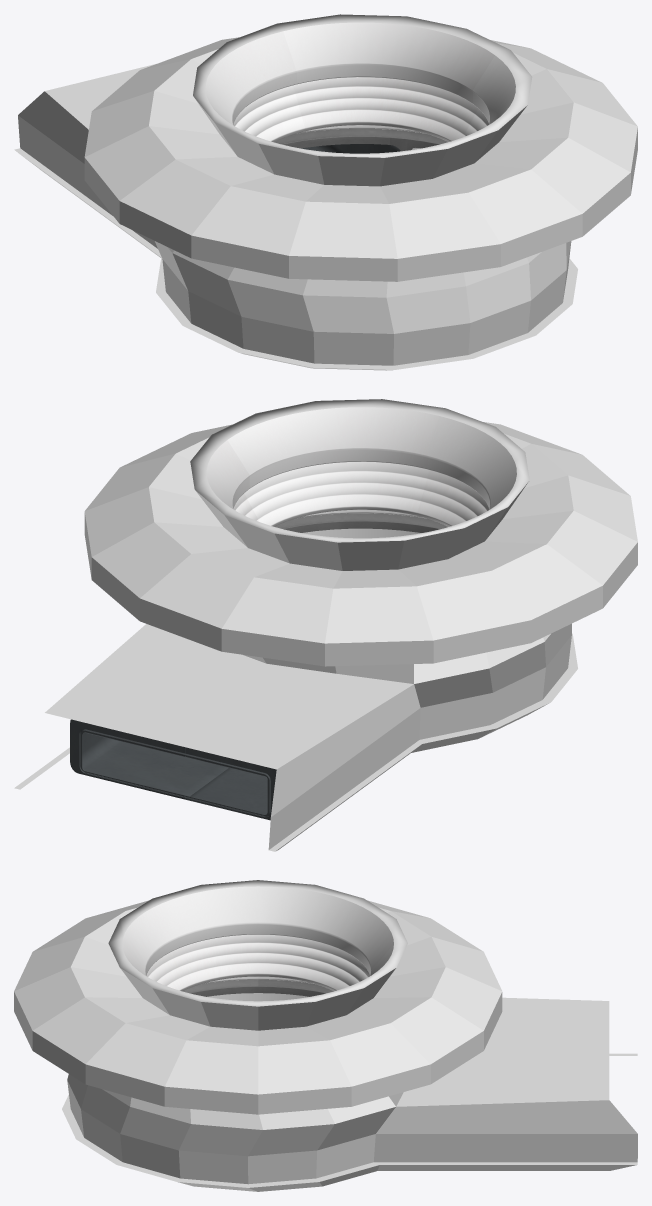
The picture shows the model from 3 angles, top to bottom: view 1: azimuth 30°, elevation 25°; view 2: azimuth 150°, elevation 25°; view 3: azimuth 270°, elevation 25°; orthographic projection. The views are drawn at different scales.
Visible parts, largest first — view 1: Shadowbox, Part_K, Part_J, Part_G, Part_L, Part_F_03; view 2: Shadowbox, Part_K, Part_J, Part_F_03, Door_D, Part_F_02, Part_G, Door_B, Part_L, Part_Window_glass, Door_A; view 3: Shadowbox, Part_K, Part_J, Part_G, Part_L, Part_Window_glass.
Boxes of the visible parts, bbox=[...] form: Shadowbox: bbox=[14, 14, 637, 370]; Part_K: bbox=[205, 22, 515, 124]; Part_J: bbox=[233, 77, 488, 142]; Part_G: bbox=[274, 128, 447, 144]; Part_L: bbox=[282, 136, 439, 151]; Part_F_03: bbox=[301, 144, 400, 153]; Shadowbox: bbox=[14, 399, 637, 851]; Part_K: bbox=[206, 407, 516, 509]; Part_J: bbox=[233, 461, 488, 526]; Part_F_03: bbox=[82, 732, 228, 796]; Door_D: bbox=[70, 719, 276, 820]; Part_F_02: bbox=[190, 768, 267, 814]; Part_G: bbox=[274, 513, 447, 528]; Door_B: bbox=[80, 730, 269, 817]; Part_L: bbox=[282, 521, 440, 532]; Part_Window_glass: bbox=[302, 528, 421, 538]; Door_A: bbox=[79, 729, 270, 816]; Shadowbox: bbox=[14, 880, 637, 1191]; Part_K: bbox=[122, 886, 393, 975]; Part_J: bbox=[146, 934, 369, 991]; Part_G: bbox=[183, 979, 333, 993]; Part_L: bbox=[190, 986, 326, 996]; Part_Window_glass: bbox=[207, 993, 308, 1001].
Size of the model in its own units: 37.78 by 15.2 by 48.26.
Materials: 8 (5 with a texture image).
